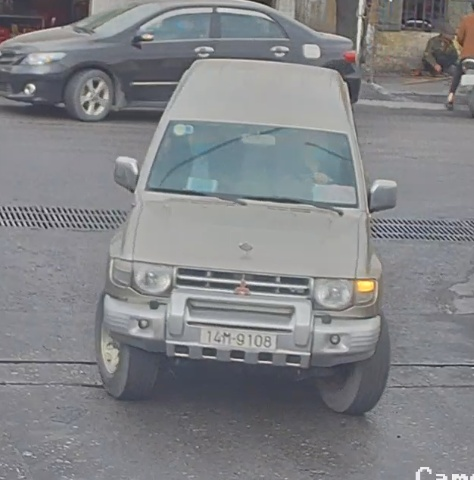vehicle plate: (196, 320, 278, 350)
